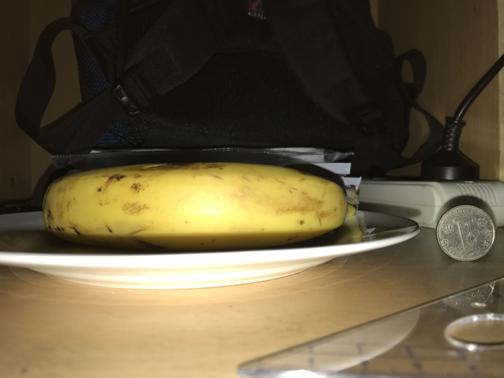banana: (41, 163, 359, 245)
coin: (436, 205, 496, 262)
